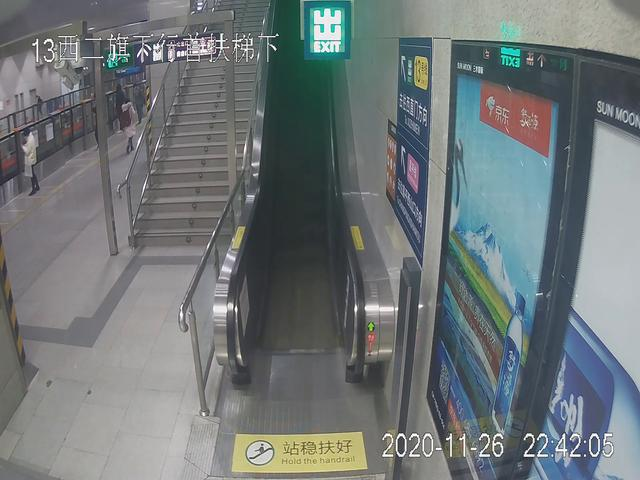person: (20, 125, 38, 194), (118, 98, 138, 155)
